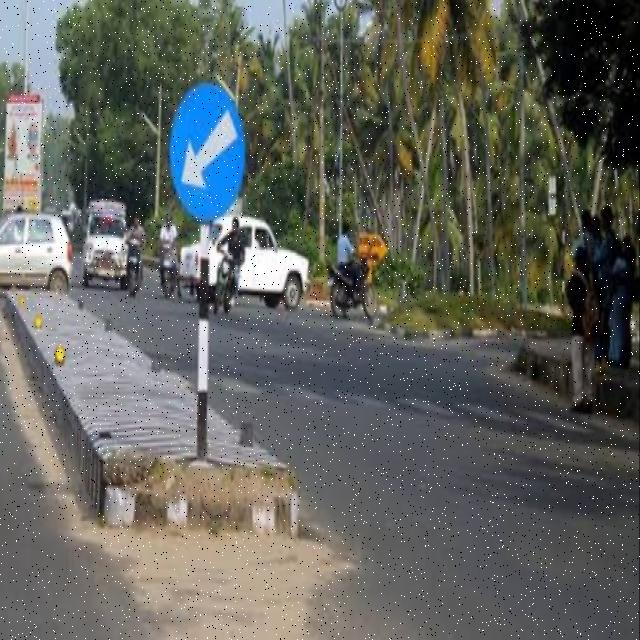compulsory_keep_left: (164, 70, 251, 257)
